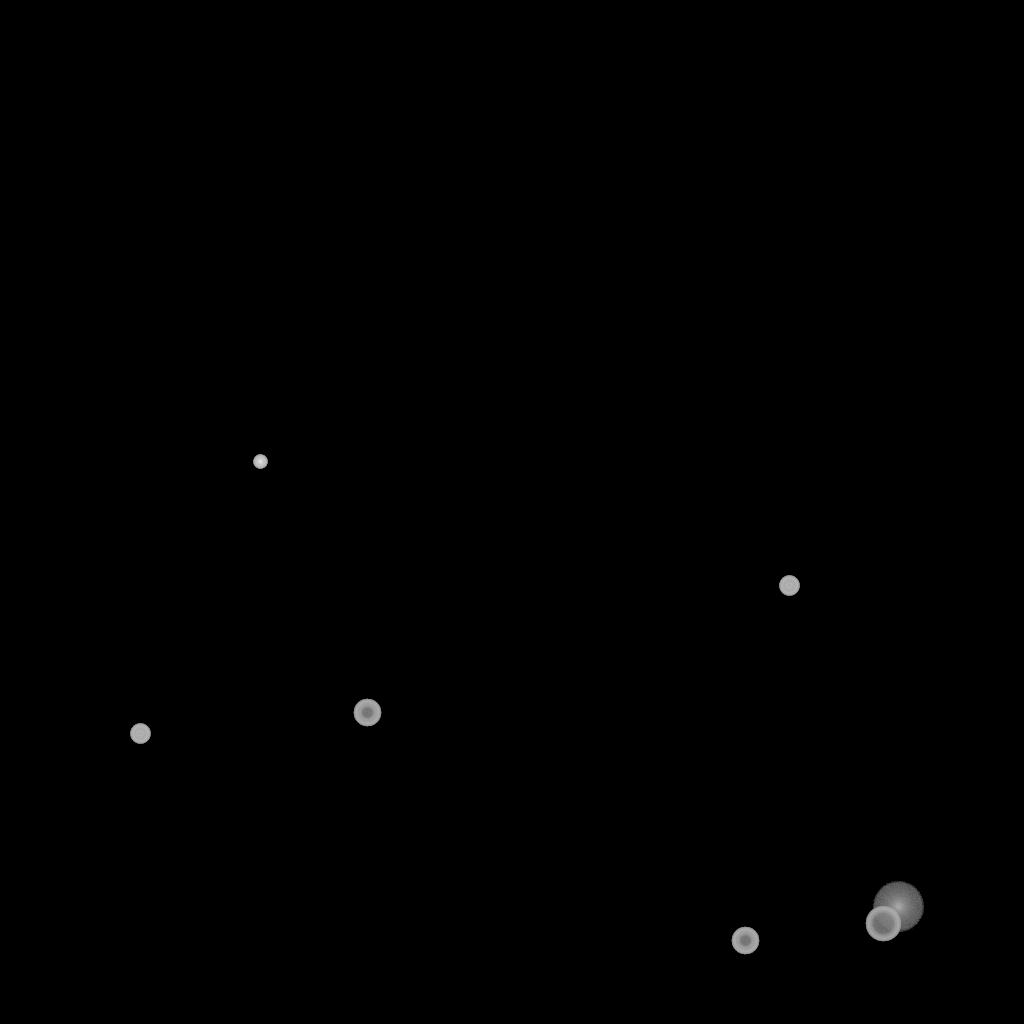depth:-30: (253, 455, 267, 469)
depth:-40: (779, 576, 799, 596), (130, 724, 150, 744)
depth:-50: (353, 699, 381, 727), (731, 927, 759, 955)
depth:-60: (865, 906, 901, 942)
depth:20: (872, 882, 924, 932)
